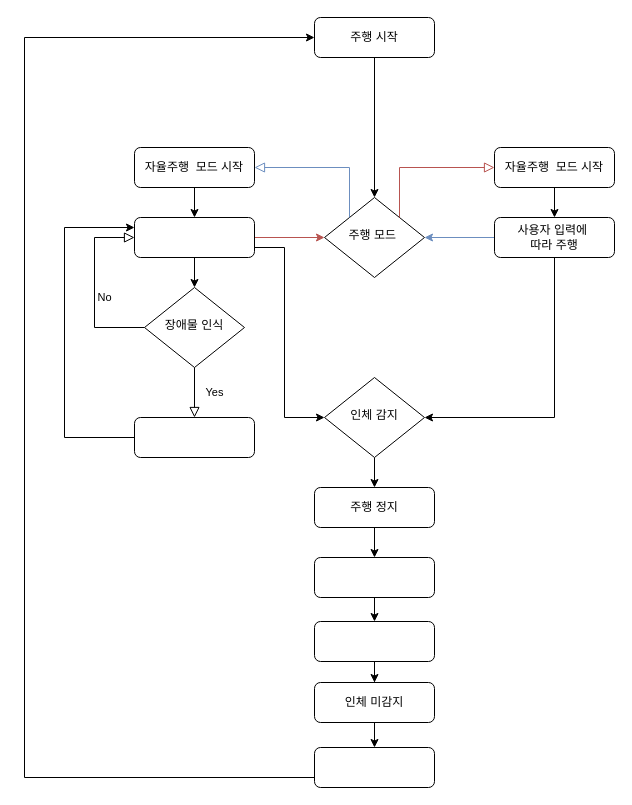
This 632x805 diagram has some shape labels left out. The centre of each missing label's shape, as x and y in pixels:
"미리 정의된 알고리즘에 따라 주행" belongs at (x=194, y=237).
"사용자로 영상 송출" belongs at (x=374, y=641).
"카메라 영상 촬영" belongs at (x=374, y=577).
"카메라 영상 촬영 중단" belongs at (x=374, y=767).
"회피 기동 수행" belongs at (x=194, y=437).
